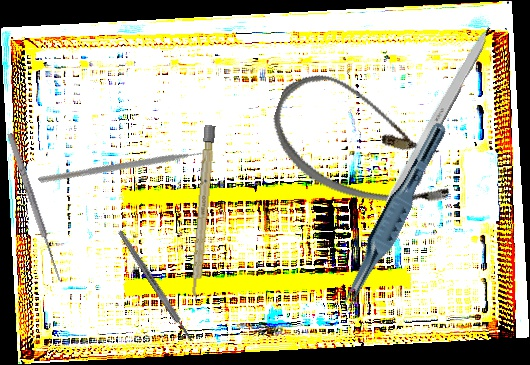Cannula: (257, 62, 473, 226)
Chopper: (37, 82, 220, 260)
Hook Surgical: (4, 130, 71, 284)
Scalpel Handle: (364, 22, 495, 240), (116, 228, 195, 344), (189, 124, 216, 301)
Tissue Forceps: (334, 115, 450, 320)
